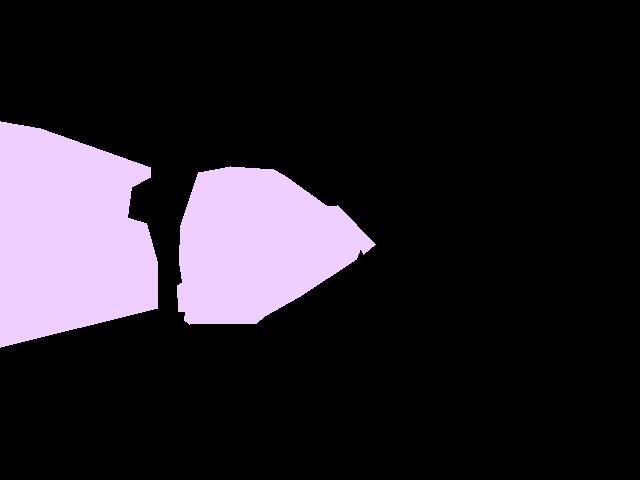Train: (0, 121, 157, 348), (177, 166, 375, 324)
